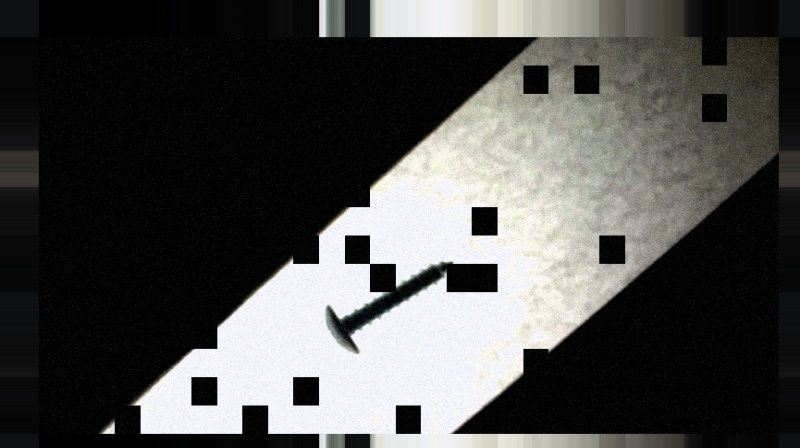S003: (318, 259, 458, 356)
